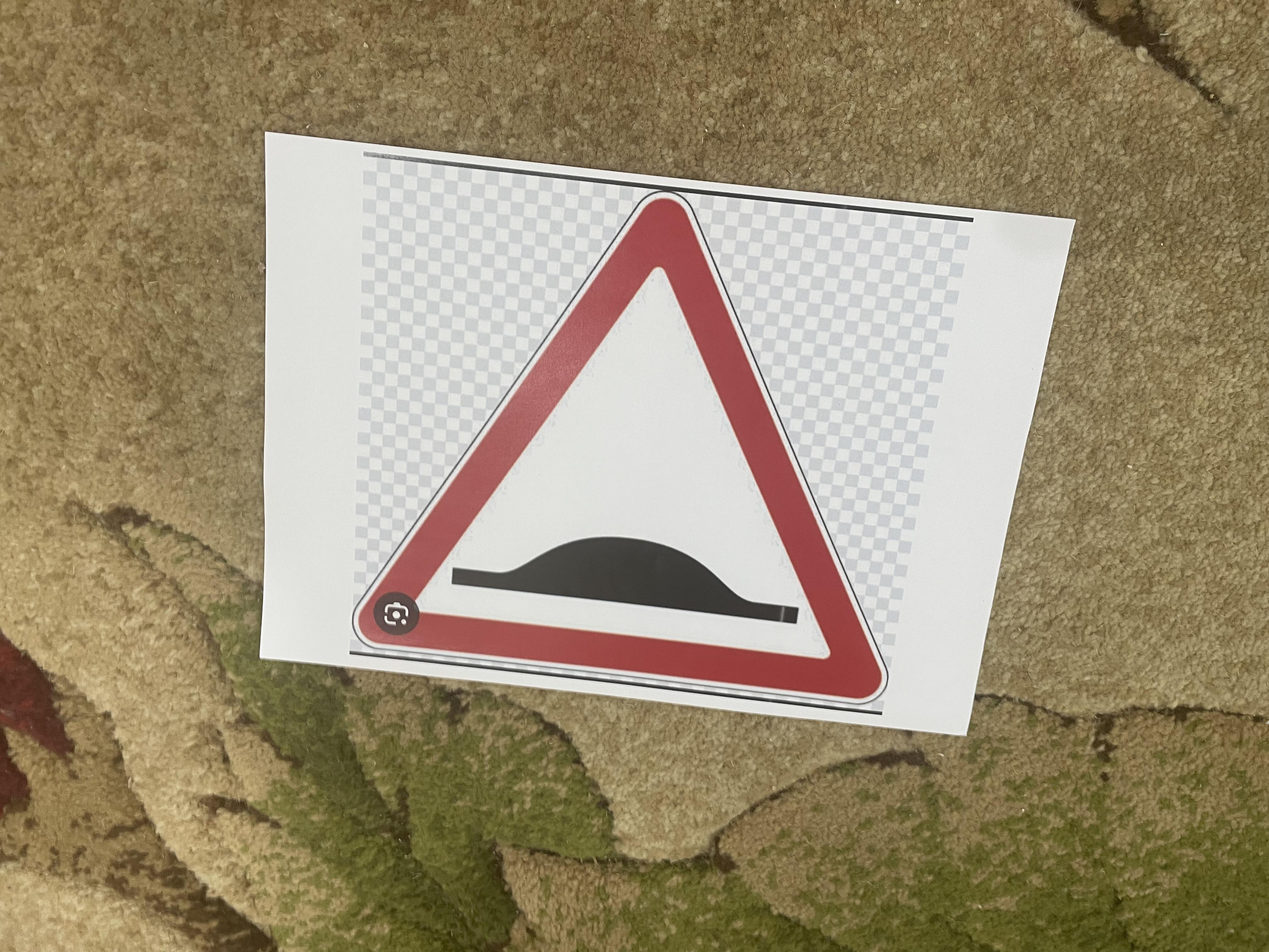Hump: (353, 186, 891, 699)
